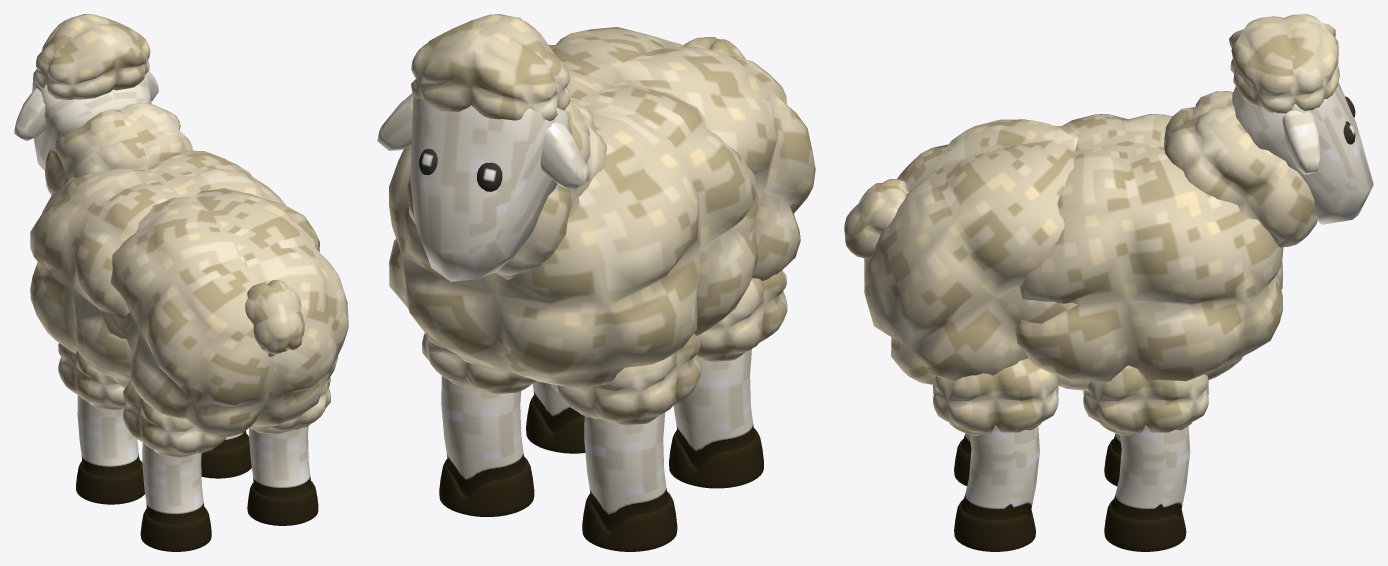
Rendered from Sheep.fbx.
3 renders of one model, left to right at view 1: azimuth 30°, elevation 25°; view 2: azimuth 150°, elevation 25°; view 3: azimuth 270°, elevation 25°, orthographic. The views are drawn at different scales.
Visible parts, largest first — view 1: Sheep4; view 2: Sheep4; view 3: Sheep4.
Part boxes in pixels (x1=…): Sheep4: x1=14, y1=14, x2=348, y2=551; Sheep4: x1=377, y1=14, x2=815, y2=551; Sheep4: x1=844, y1=14, x2=1373, y2=551.
Bounding box in the file's own units: 26.33 × 49.35 × 49.43.
1 material, 1 textured.
